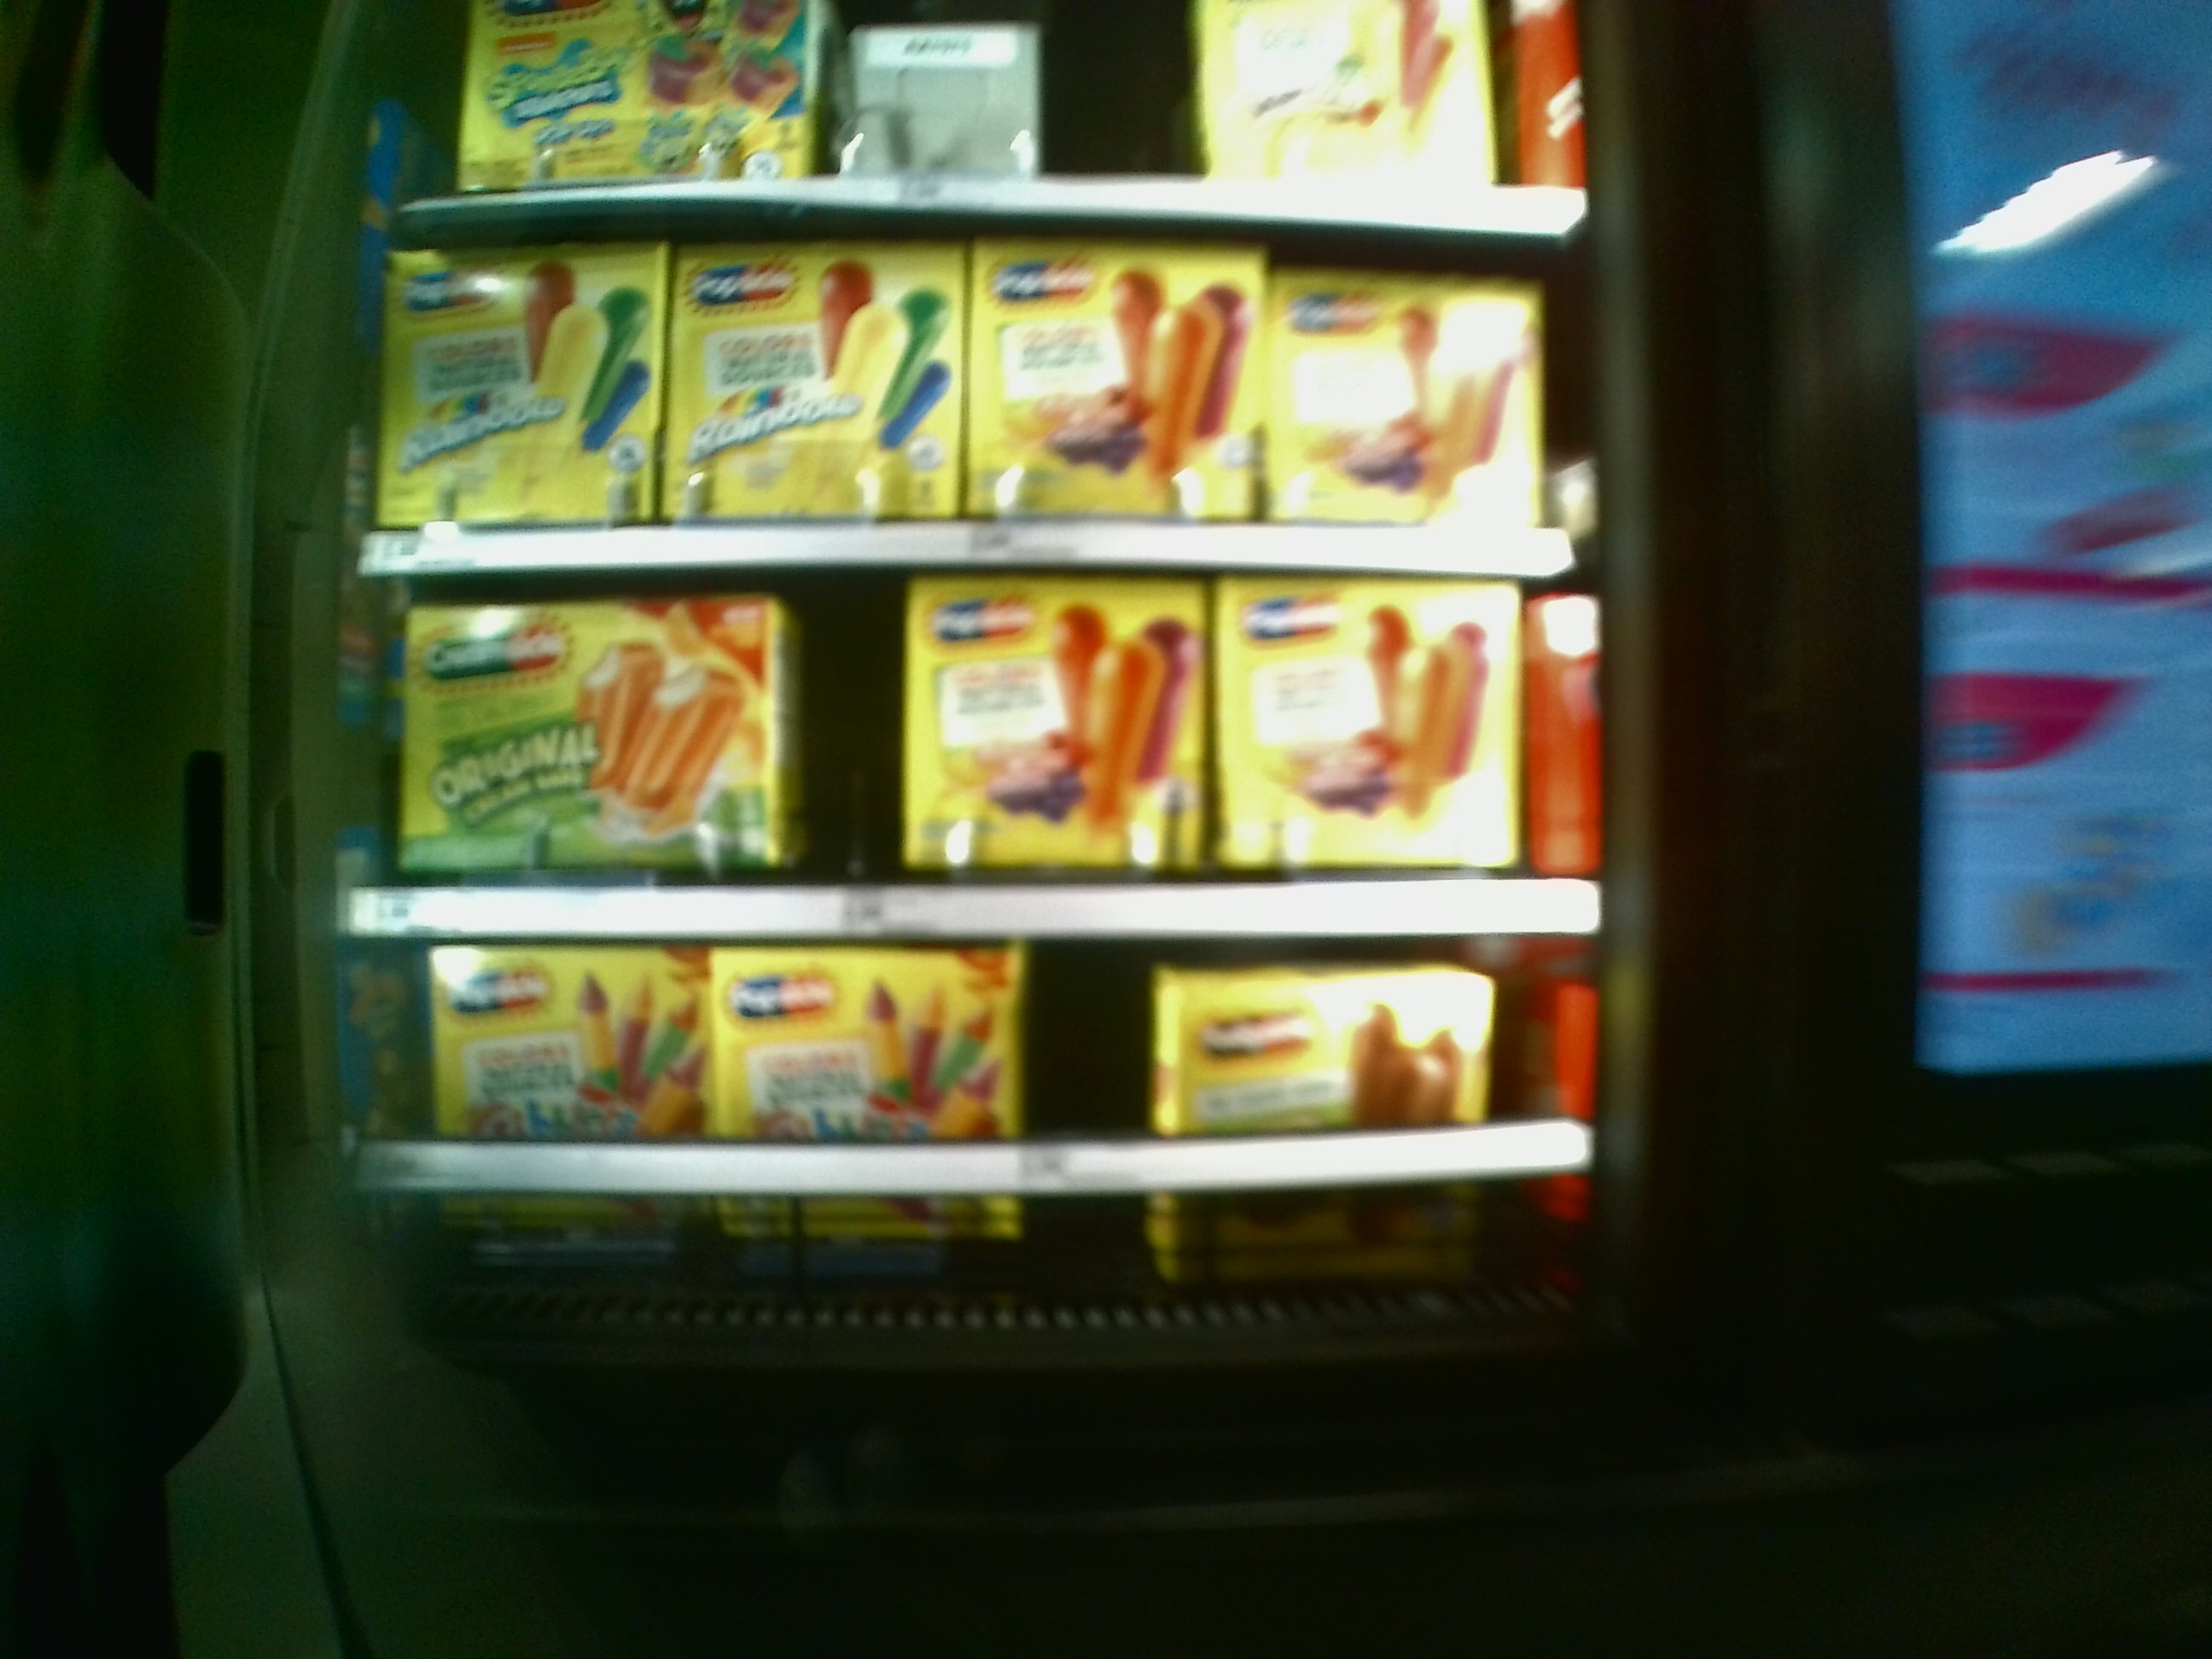shelf: (380, 931, 1568, 1293), (381, 225, 1587, 579), (378, 579, 1576, 929)
